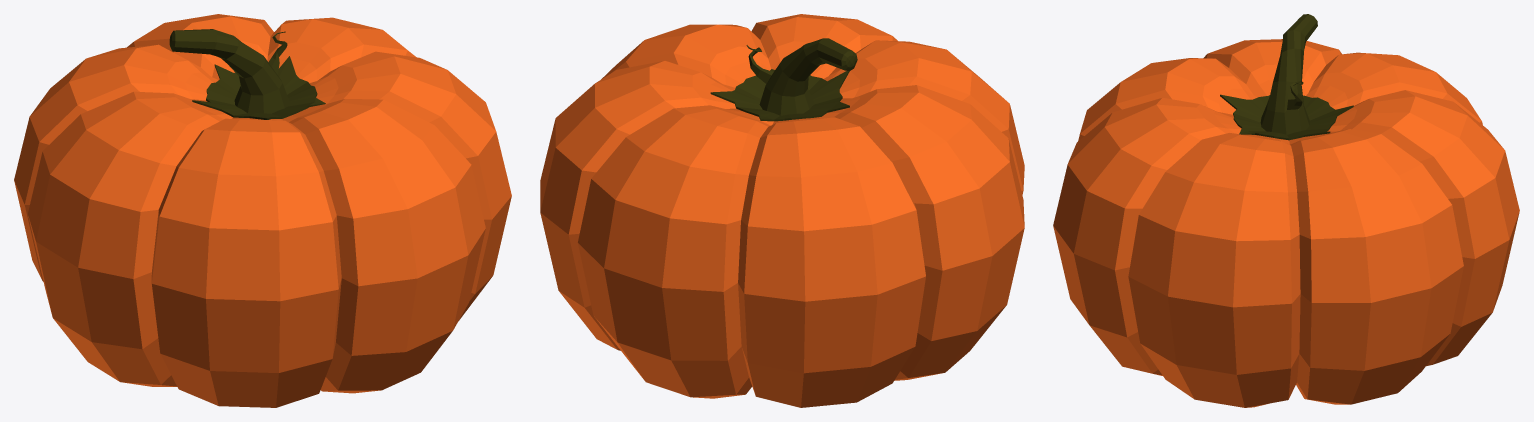
File: pumpkin.fbx
3 renders of one model, left to right at view 1: azimuth 30°, elevation 25°; view 2: azimuth 150°, elevation 25°; view 3: azimuth 270°, elevation 25°, orthographic. The views are drawn at different scales.
Parts seen in each view (by area): view 1: Pumpkin; view 2: Pumpkin; view 3: Pumpkin.
Part boxes in pixels (bbox=[...]): Pumpkin: bbox=[14, 14, 511, 407]; Pumpkin: bbox=[540, 14, 1024, 407]; Pumpkin: bbox=[1053, 14, 1519, 407].
Bounding box in the file's own units: 0.6116 × 0.441 × 0.6167.
Materials: 1 (1 with a texture image).
